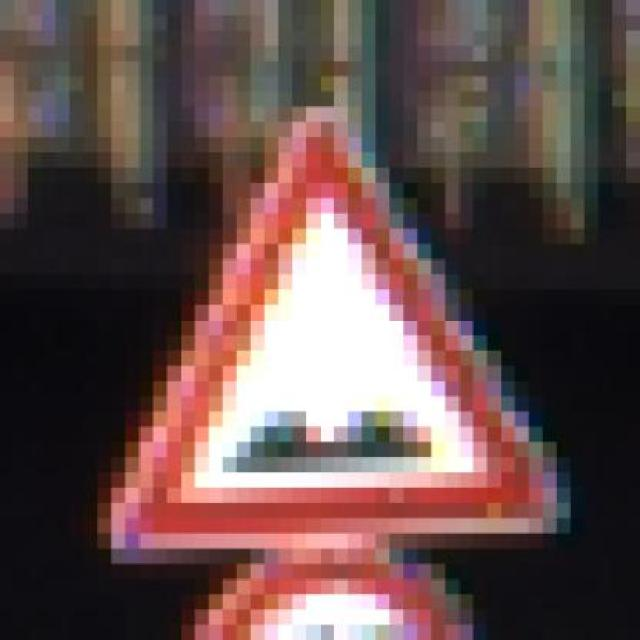Uneven Road: (69, 91, 585, 548)
